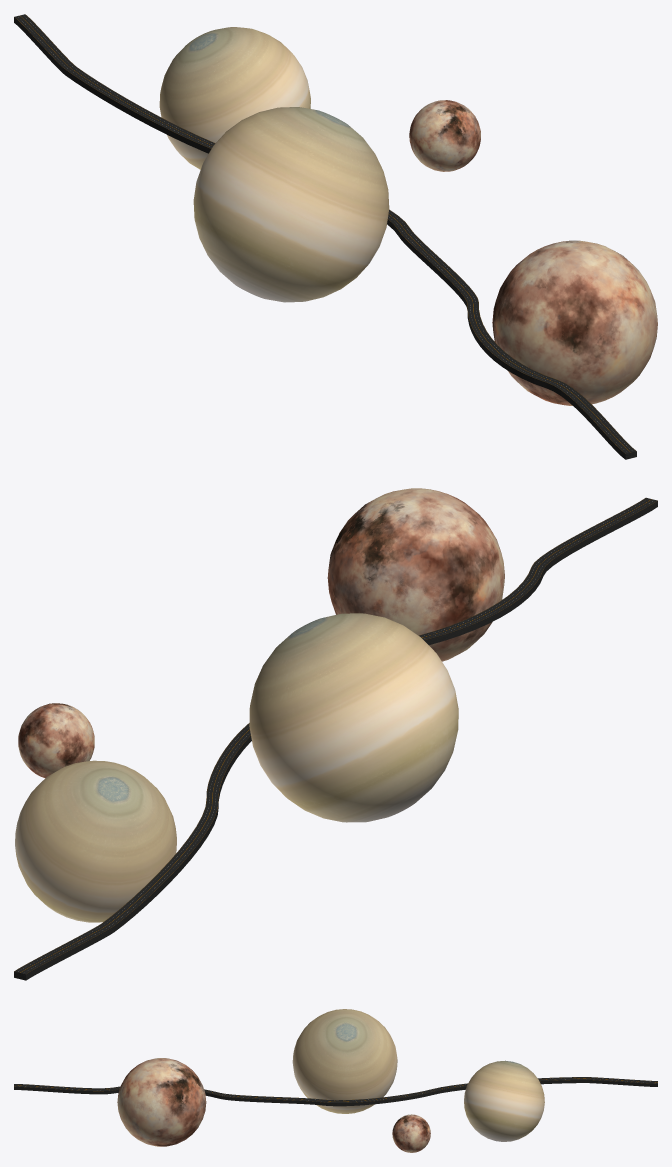
File: surrealism.fbx
The picture shows the model from 3 angles, top to bottom: view 1: azimuth 30°, elevation 25°; view 2: azimuth 150°, elevation 25°; view 3: azimuth 270°, elevation 25°; orthographic projection. The views are drawn at different scales.
Parts seen in each view (by area): view 1: Sphere.001, Sphere, Sphere.003, BezierCurve, Sphere.002; view 2: Sphere.001, Sphere, Sphere.003, BezierCurve, Sphere.002; view 3: Sphere.001, Sphere, Sphere.003, BezierCurve, Sphere.002.
Part boxes in pixels (box(x1,y1,x2,y2)): Sphere.001: box(193, 107, 389, 302); Sphere: box(492, 240, 657, 405); Sphere.003: box(159, 27, 310, 169); BezierCurve: box(14, 14, 636, 459); Sphere.002: box(409, 100, 480, 171); Sphere.001: box(249, 613, 458, 822); Sphere: box(327, 488, 504, 661); Sphere.003: box(15, 760, 176, 922); BezierCurve: box(14, 497, 657, 980); Sphere.002: box(18, 703, 94, 778); Sphere.001: box(292, 1009, 397, 1113); Sphere: box(117, 1058, 206, 1146); Sphere.003: box(464, 1060, 544, 1141); BezierCurve: box(14, 1077, 657, 1106); Sphere.002: box(392, 1114, 430, 1152).
Bounding box in the file's own units: 33276 × 104457 × 17912.
Materials: 5 (5 with a texture image).
